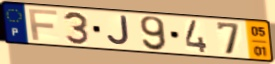3: (61, 10, 91, 46)
4: (185, 19, 209, 54)
7: (215, 21, 243, 56)
9: (138, 15, 167, 52)
F: (26, 8, 59, 42)
J: (105, 15, 132, 48)
